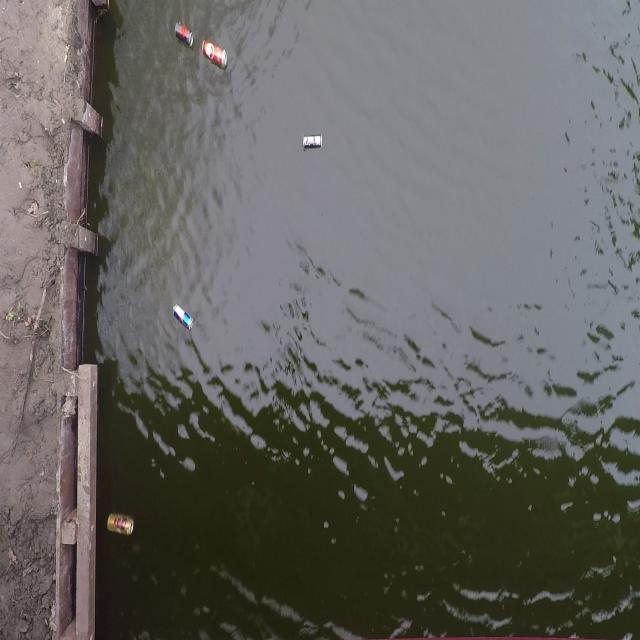Non plastique: (104, 507, 143, 543), (171, 295, 197, 338), (202, 37, 232, 74), (171, 15, 196, 49), (298, 127, 326, 155)
